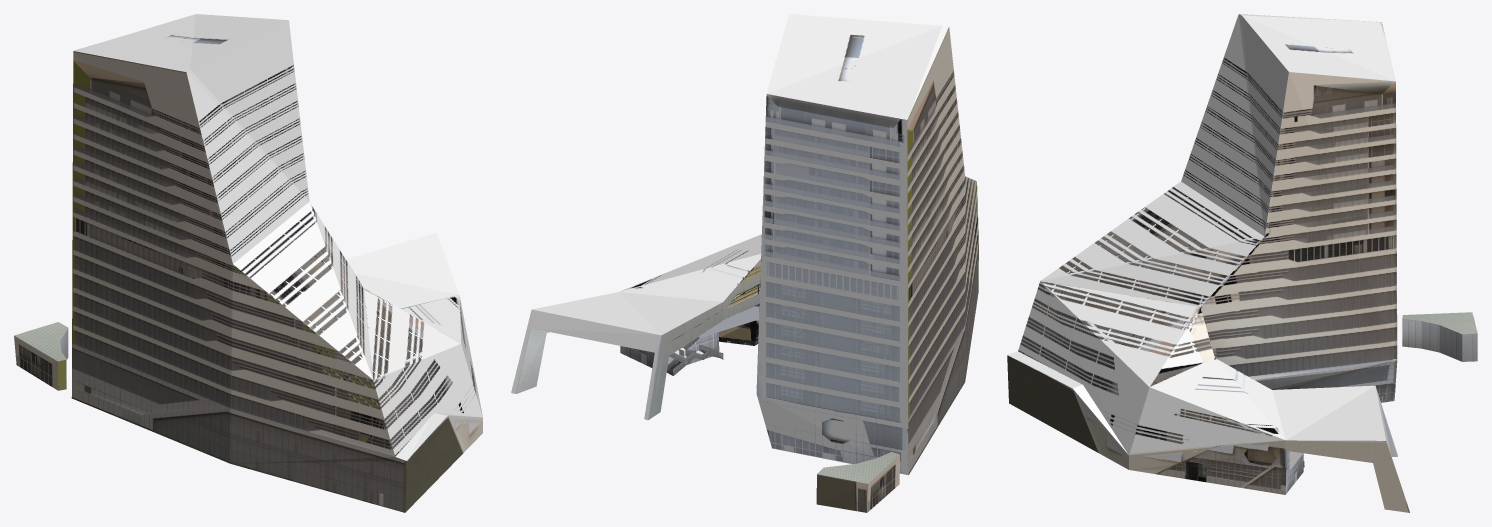
Rendered from 501_BAKED_FINAL_NEW.glb.
3 renders of one model, left to right at view 1: azimuth 30°, elevation 25°; view 2: azimuth 150°, elevation 25°; view 3: azimuth 270°, elevation 25°, orthographic. The views are drawn at different scales.
Visible parts, largest first — view 1: 501_001; view 2: 501_001; view 3: 501_001.
Part boxes in pixels (x1,y1,x2,y2): 501_001: [14, 14, 482, 512]; 501_001: [511, 14, 978, 512]; 501_001: [1007, 14, 1477, 512].
Bounding box in the file's own units: 89.25 × 83.73 × 102.
1 material, 1 textured.
